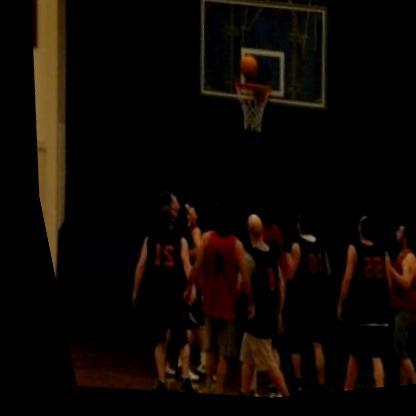basketball: (229, 52, 260, 86)
